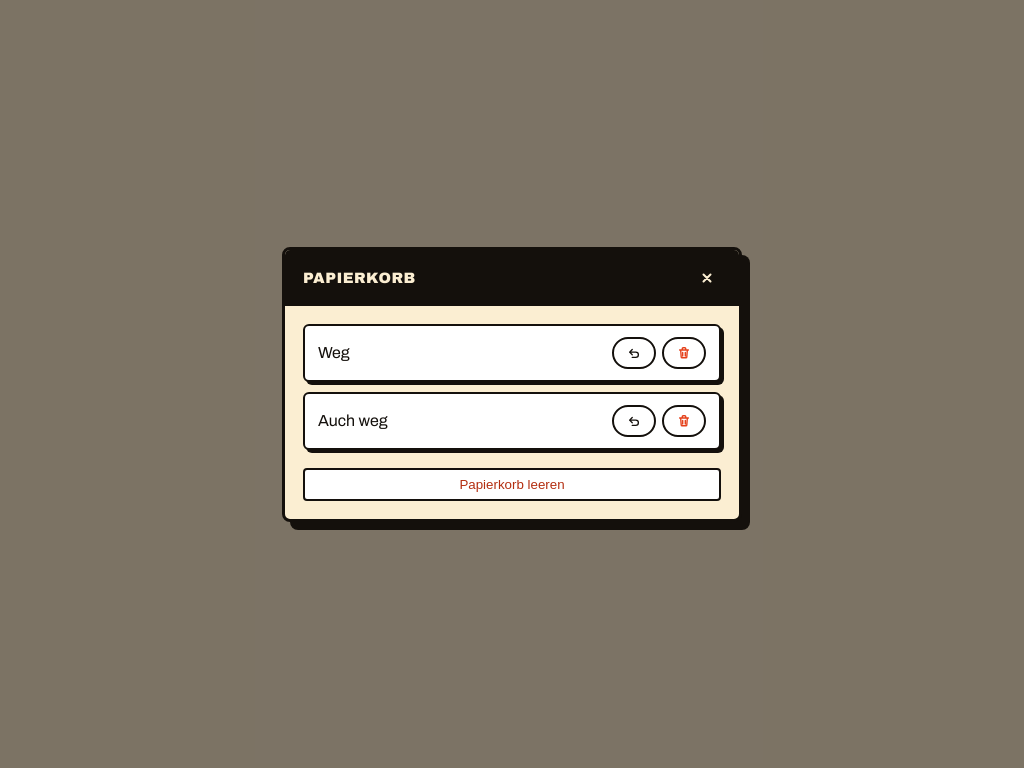
Test: TrashModal › lädt beim Leeren nach, wenn ein Purge mittendrin fehlschlägt
Expected: the text "Weg" is shown, left=318, top=344, right=350, bottom=361
Click the button "Papierkorb leeren". click: {"x": 512, "y": 484}
box: left=303, top=468, right=721, bottom=500
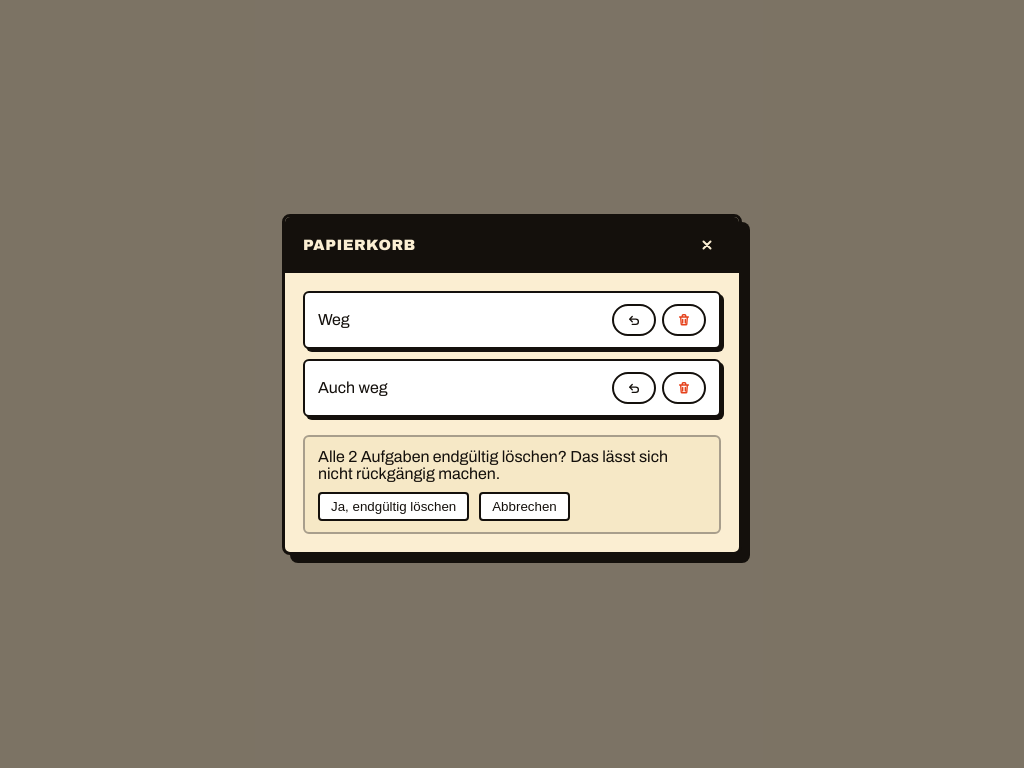
Click the button "Ja, endgültig löschen". click: {"x": 394, "y": 506}
box: left=318, top=492, right=469, bottom=520
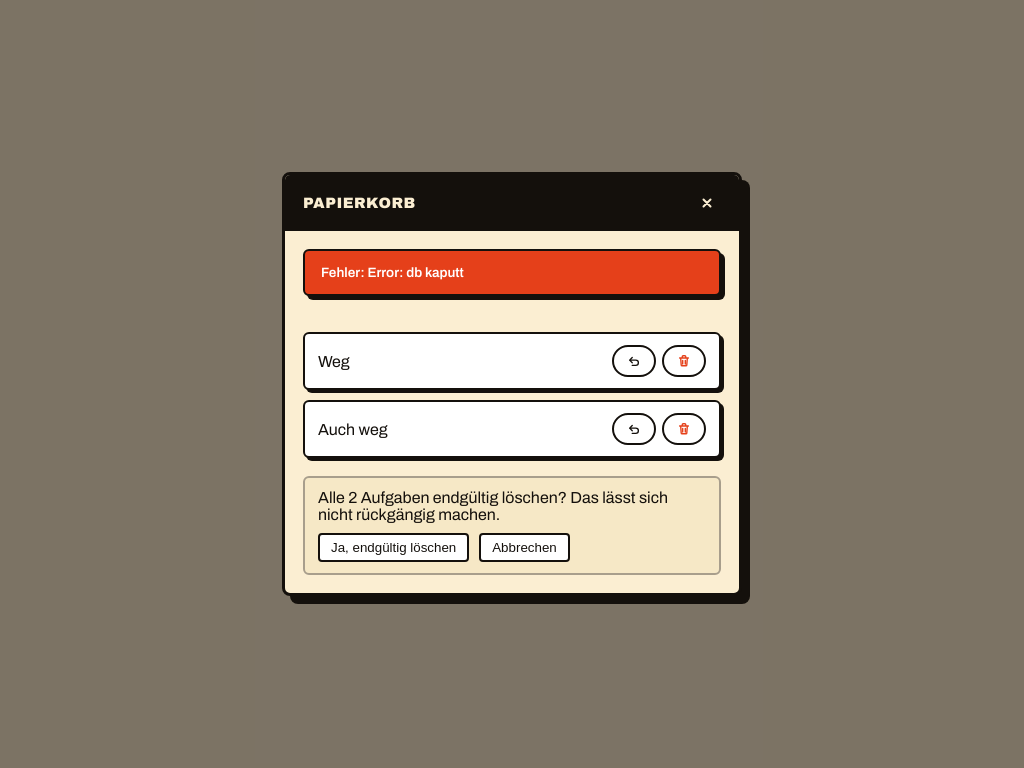
Result: the text "Fehler: Error: db kaputt" is shown at left=303, top=249, right=721, bottom=296
